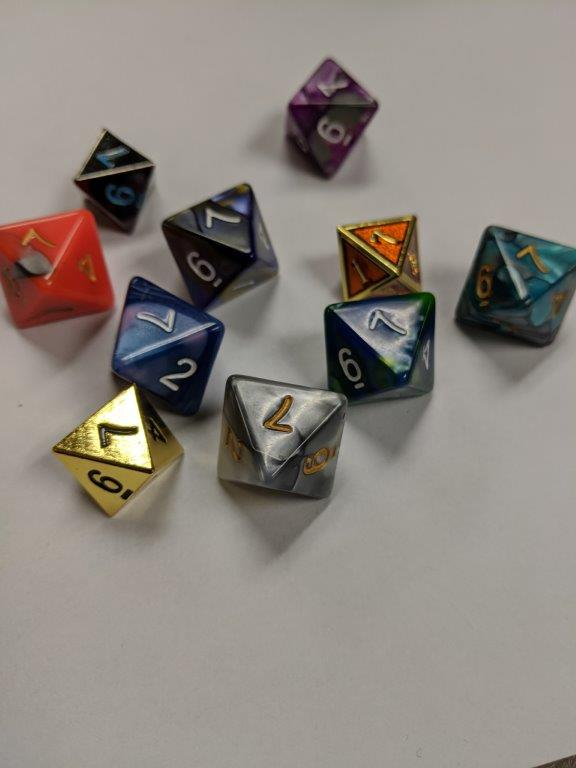d8-7: (48, 385, 184, 517), (215, 375, 350, 506), (453, 225, 576, 353), (111, 274, 222, 415), (161, 186, 277, 318), (324, 292, 438, 408), (1, 208, 115, 318), (288, 56, 379, 179), (70, 129, 160, 235), (338, 210, 421, 304)
